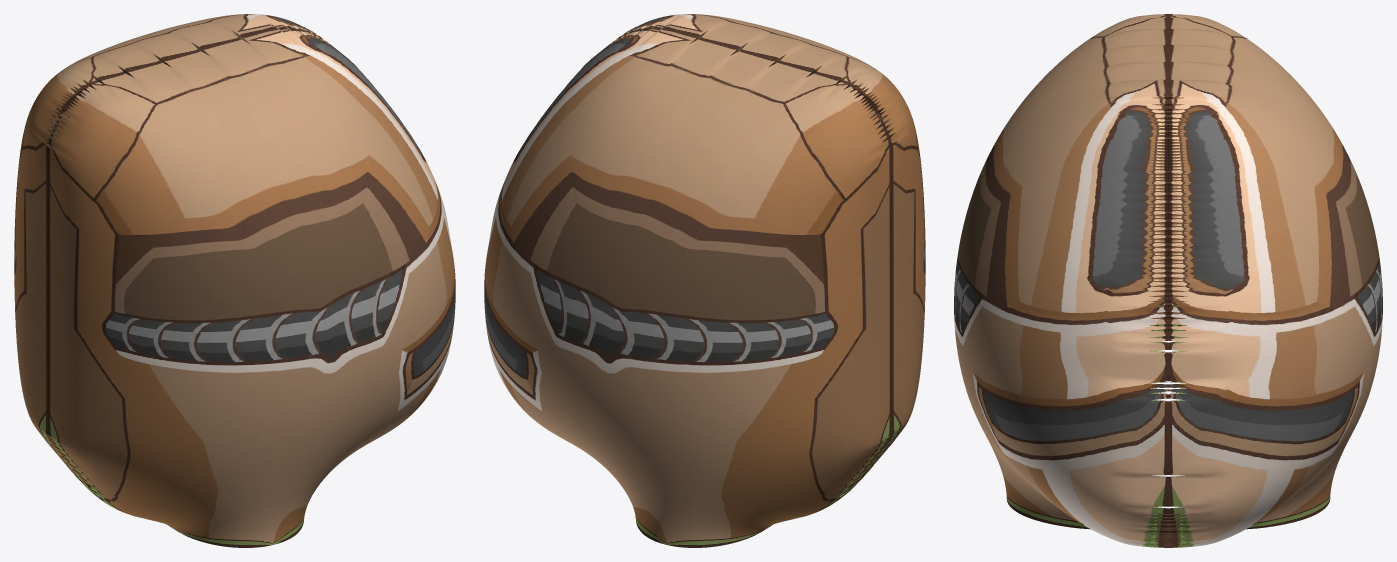
Rendered from rear_housing.glb.
3 renders of one model, left to right at view 1: azimuth 30°, elevation 25°; view 2: azimuth 150°, elevation 25°; view 3: azimuth 270°, elevation 25°, orthographic.
Visible parts, largest first — view 1: rear_housing; view 2: rear_housing; view 3: rear_housing.
Boxes of the visible parts, left/top/right/bottom form: rear_housing: left=14, top=14, right=455, bottom=547; rear_housing: left=484, top=14, right=925, bottom=547; rear_housing: left=954, top=14, right=1382, bottom=547.
Size of the model in its own units: 0.9878 by 1.09 by 0.9605.
Materials: 1 (1 with a texture image).
